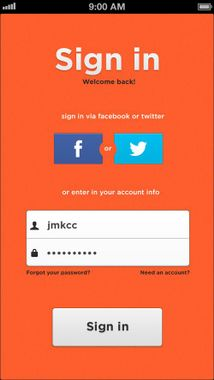_form_: (1, 1, 214, 380)
button: (51, 306, 164, 348)
field: (25, 210, 191, 240), (25, 239, 191, 268)
